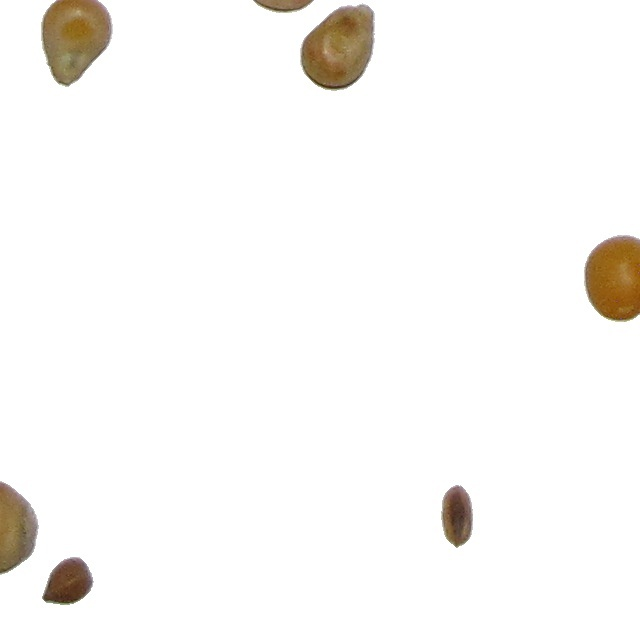buckwheat: (41, 556, 95, 606), (440, 484, 474, 549)
mais: (299, 2, 376, 92), (583, 234, 640, 323)
